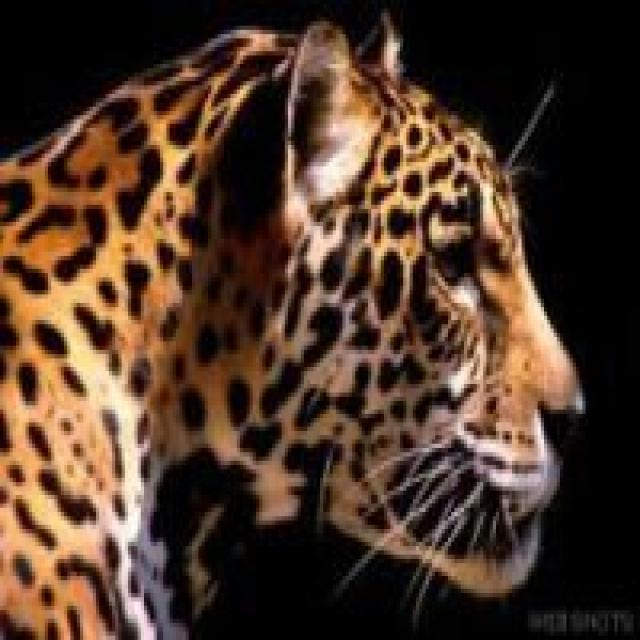Leopard: (0, 13, 592, 631)
